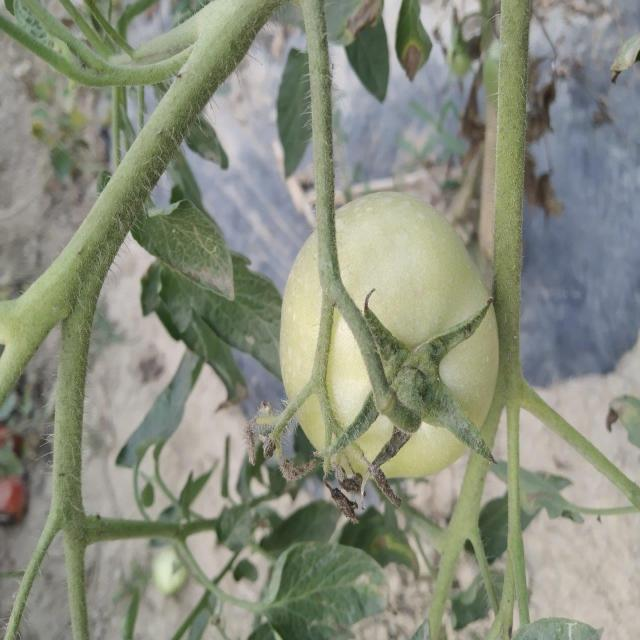Unripe: (278, 186, 501, 482)
